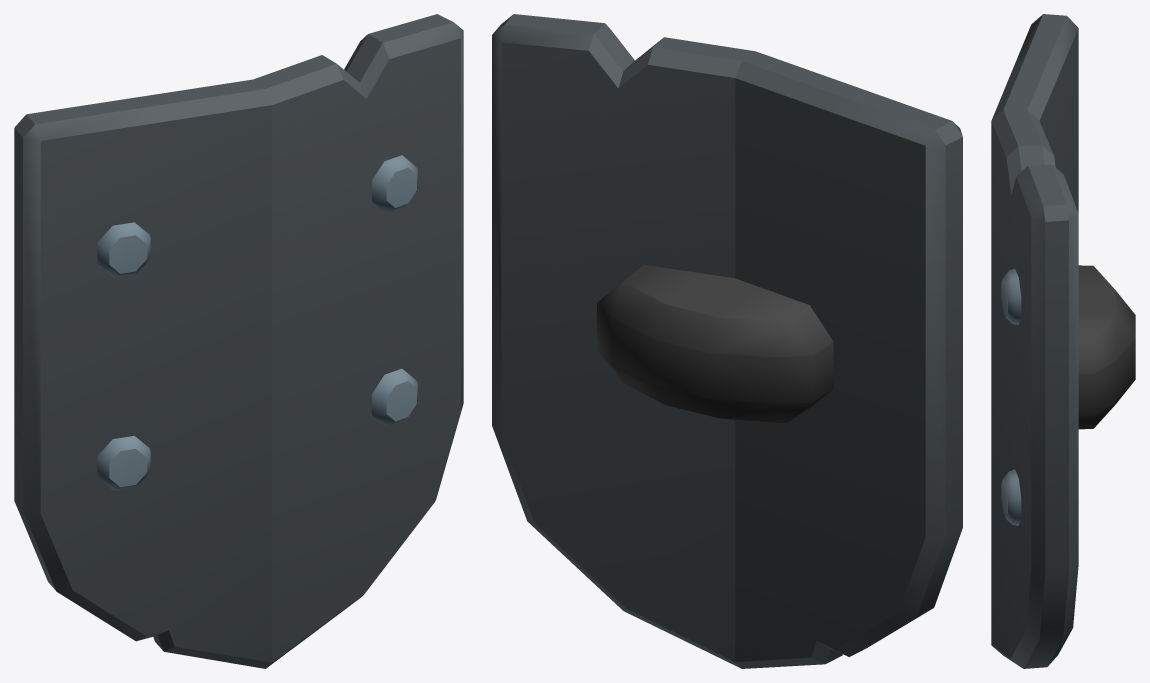
The model's file is scrap_shield.glb.
3 views of the same model, side by side, from view 1: azimuth 30°, elevation 25°; view 2: azimuth 150°, elevation 25°; view 3: azimuth 270°, elevation 25° (orthographic). The views are drawn at different scales.
Visible parts, largest first — view 1: shield_A; view 2: shield_A; view 3: shield_A.
Part boxes in pixels (box(x1,y1,x2,y2)): shield_A: box(14, 14, 463, 668); shield_A: box(492, 14, 962, 668); shield_A: box(991, 14, 1135, 668).
Bounding box in the file's own units: 0.7726 × 0.9799 × 0.233.
Materials: 1 (1 with a texture image).
